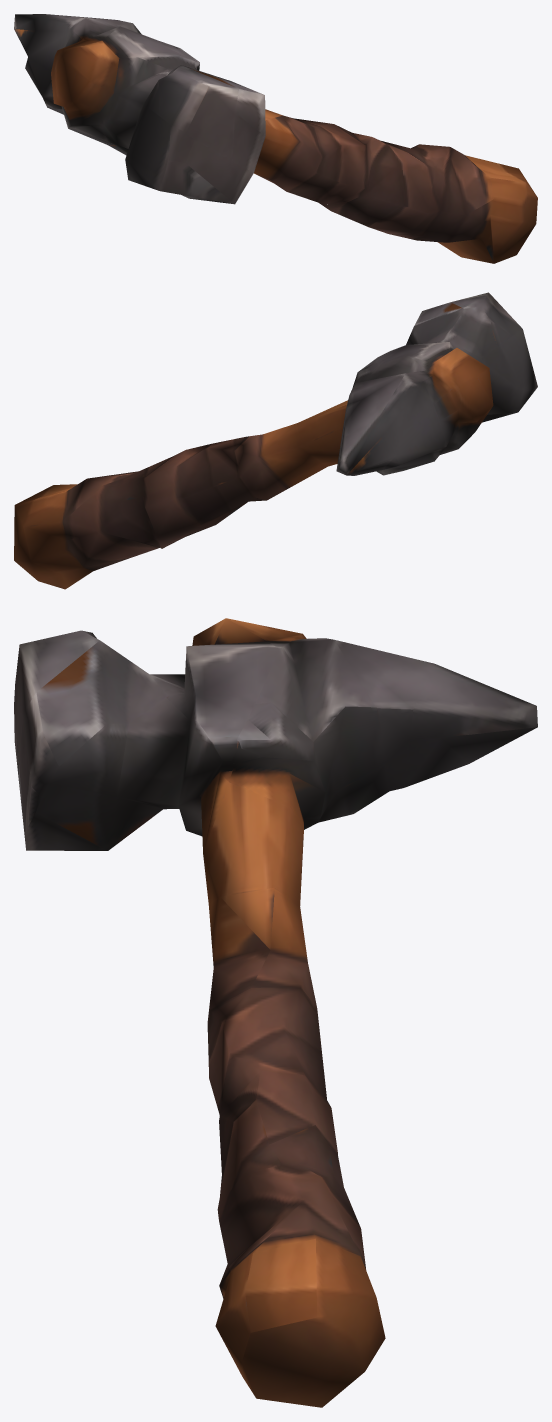
The model's file is martelo.glb.
3 views of the same model, one above another, from view 1: azimuth 30°, elevation 25°; view 2: azimuth 150°, elevation 25°; view 3: azimuth 270°, elevation 25° (orthographic). The views are drawn at different scales.
Parts seen in each view (by area): view 1: tripo_node_9d305698-dbd4-4cba-9524-2c104828dc4f; view 2: tripo_node_9d305698-dbd4-4cba-9524-2c104828dc4f; view 3: tripo_node_9d305698-dbd4-4cba-9524-2c104828dc4f.
Boxes of the visible parts, x1=… form: tripo_node_9d305698-dbd4-4cba-9524-2c104828dc4f: x1=14, y1=14, x2=537, y2=263; tripo_node_9d305698-dbd4-4cba-9524-2c104828dc4f: x1=14, y1=292, x2=537, y2=589; tripo_node_9d305698-dbd4-4cba-9524-2c104828dc4f: x1=14, y1=618, x2=537, y2=1407.
Size of the model in its own units: 0.9718 by 0.6422 by 0.6164.
Materials: 1 (1 with a texture image).
